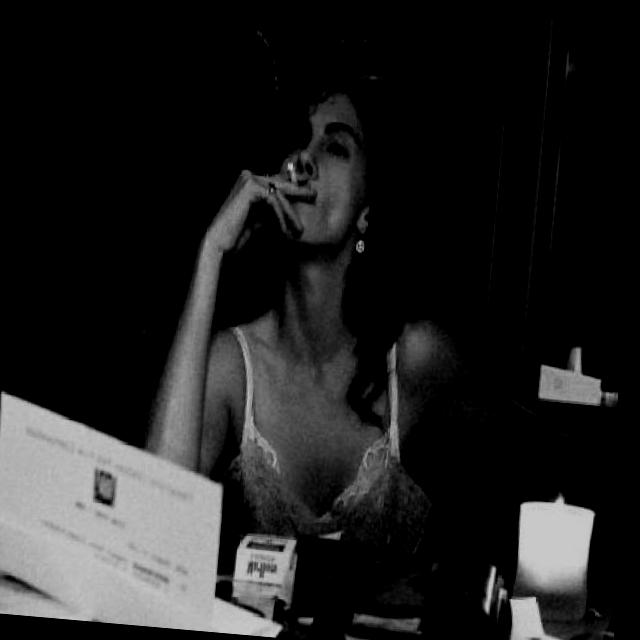smoke: (282, 160, 300, 188)
